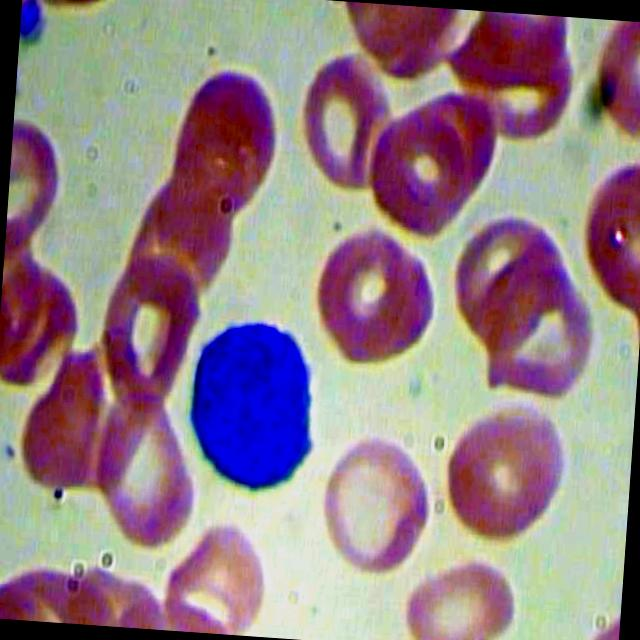Platelets: (18, 0, 47, 52)
RBC: (153, 46, 299, 209), (431, 394, 576, 558), (300, 218, 446, 380), (472, 237, 600, 410), (78, 393, 208, 557), (83, 242, 212, 406), (312, 419, 438, 577), (287, 40, 401, 188), (152, 507, 278, 637), (365, 100, 480, 238), (405, 543, 552, 640), (573, 158, 640, 308), (585, 18, 640, 142)
WBC: (186, 308, 324, 494)
